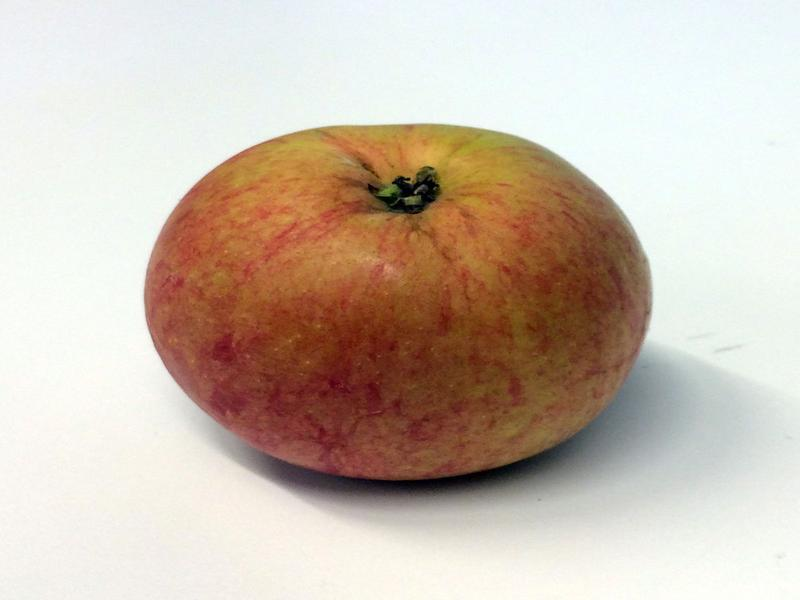apple: (107, 80, 705, 485)
